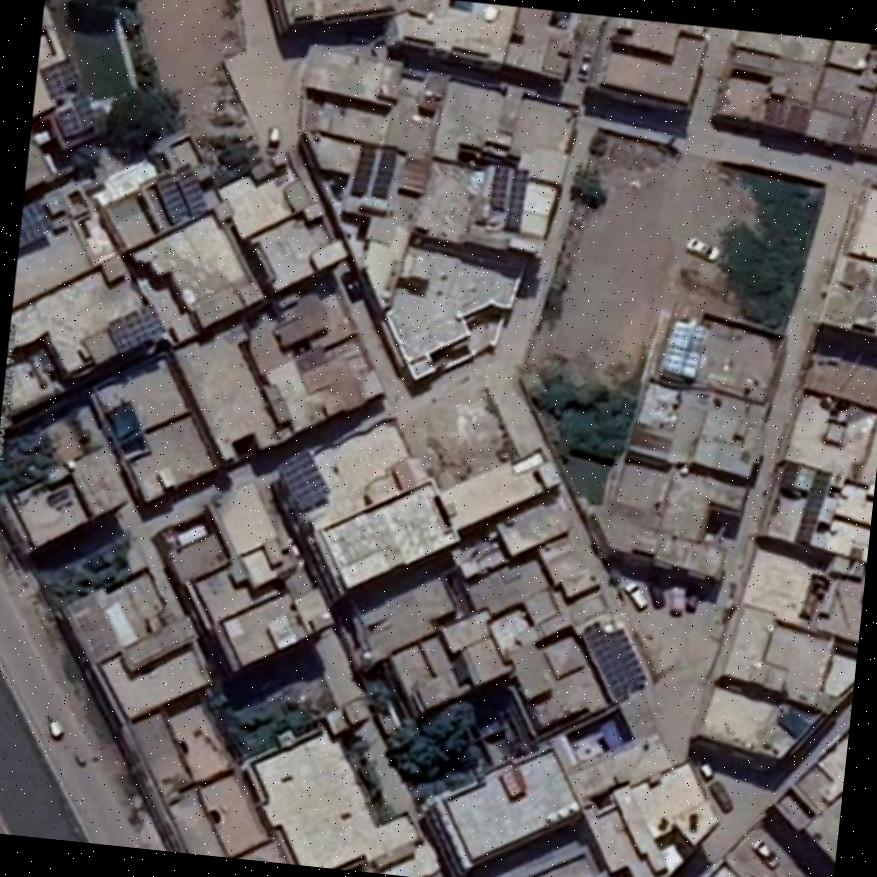Solarpanel: (585, 613, 647, 699), (277, 447, 328, 509), (110, 303, 167, 353), (157, 162, 205, 221), (796, 471, 834, 543), (21, 199, 55, 248), (58, 91, 94, 136), (506, 167, 527, 232), (370, 147, 397, 197), (350, 144, 377, 191), (41, 60, 77, 95), (490, 166, 510, 207)
